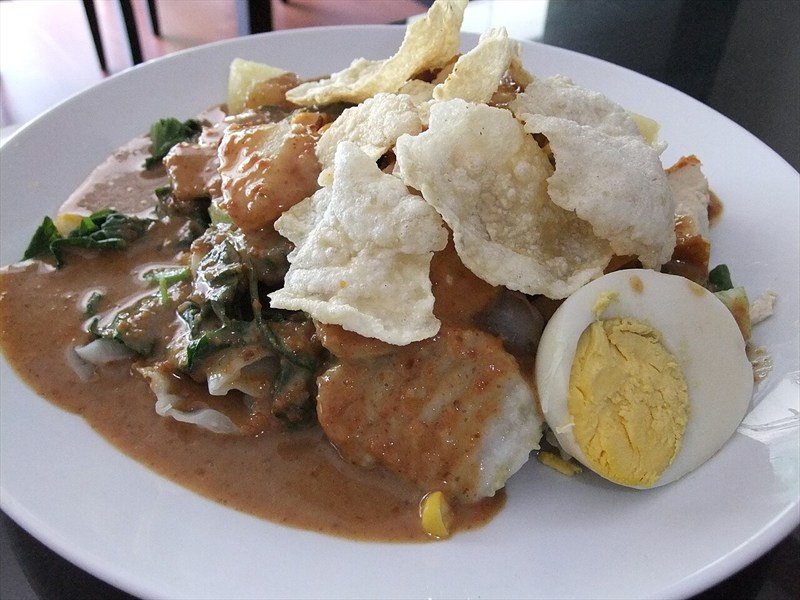Gado-Gado: (52, 44, 713, 526)
